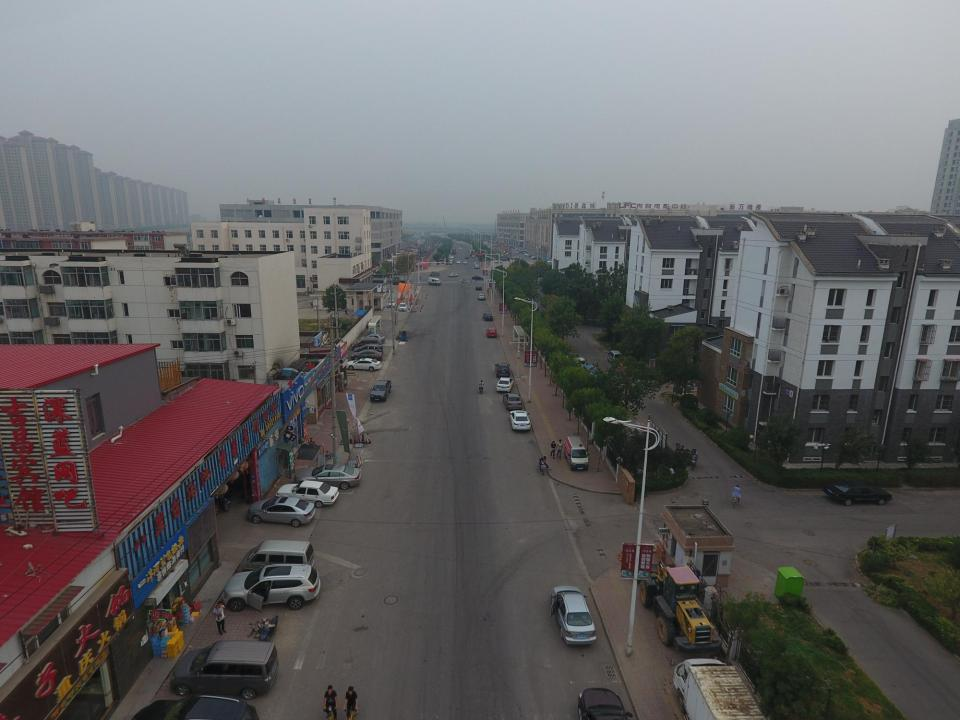car: (551, 586, 596, 644), (247, 497, 316, 527), (275, 480, 339, 509), (822, 481, 892, 506), (294, 464, 361, 490), (579, 688, 633, 720), (346, 358, 381, 372), (509, 410, 531, 431), (351, 349, 383, 361), (503, 393, 522, 410), (496, 376, 514, 392), (354, 337, 379, 347), (360, 334, 385, 344), (486, 328, 497, 337), (483, 312, 492, 321), (387, 300, 395, 308), (398, 303, 407, 310), (472, 275, 484, 280), (478, 294, 485, 300), (448, 273, 458, 277), (475, 285, 482, 290), (494, 260, 502, 264), (547, 259, 554, 263), (503, 250, 510, 254), (532, 257, 541, 260), (474, 264, 479, 269), (499, 258, 507, 261), (520, 250, 528, 253), (531, 256, 538, 259), (524, 253, 530, 256), (514, 248, 520, 251), (508, 245, 514, 248), (506, 252, 512, 255), (474, 262, 478, 266), (456, 260, 460, 264), (518, 249, 523, 252), (524, 254, 531, 256), (513, 247, 520, 249), (474, 263, 478, 266), (463, 261, 467, 264), (522, 252, 528, 254), (516, 248, 522, 250), (504, 252, 510, 254), (465, 256, 469, 258), (472, 255, 475, 257), (459, 247, 461, 250), (515, 251, 517, 254), (484, 243, 489, 244)
truck: (670, 655, 772, 720), (578, 364, 609, 392), (370, 380, 391, 401), (392, 277, 400, 285), (452, 248, 456, 254), (450, 256, 454, 261), (460, 242, 462, 245)
van: (170, 640, 278, 700), (222, 564, 320, 612), (130, 695, 258, 720), (240, 540, 314, 578), (564, 436, 590, 471), (556, 357, 588, 370), (354, 343, 384, 356), (351, 339, 382, 351), (607, 350, 623, 365), (495, 362, 510, 377), (428, 277, 440, 286), (430, 271, 439, 276), (448, 259, 454, 265), (512, 256, 520, 260), (497, 246, 504, 250), (528, 254, 536, 257), (510, 255, 516, 258)
